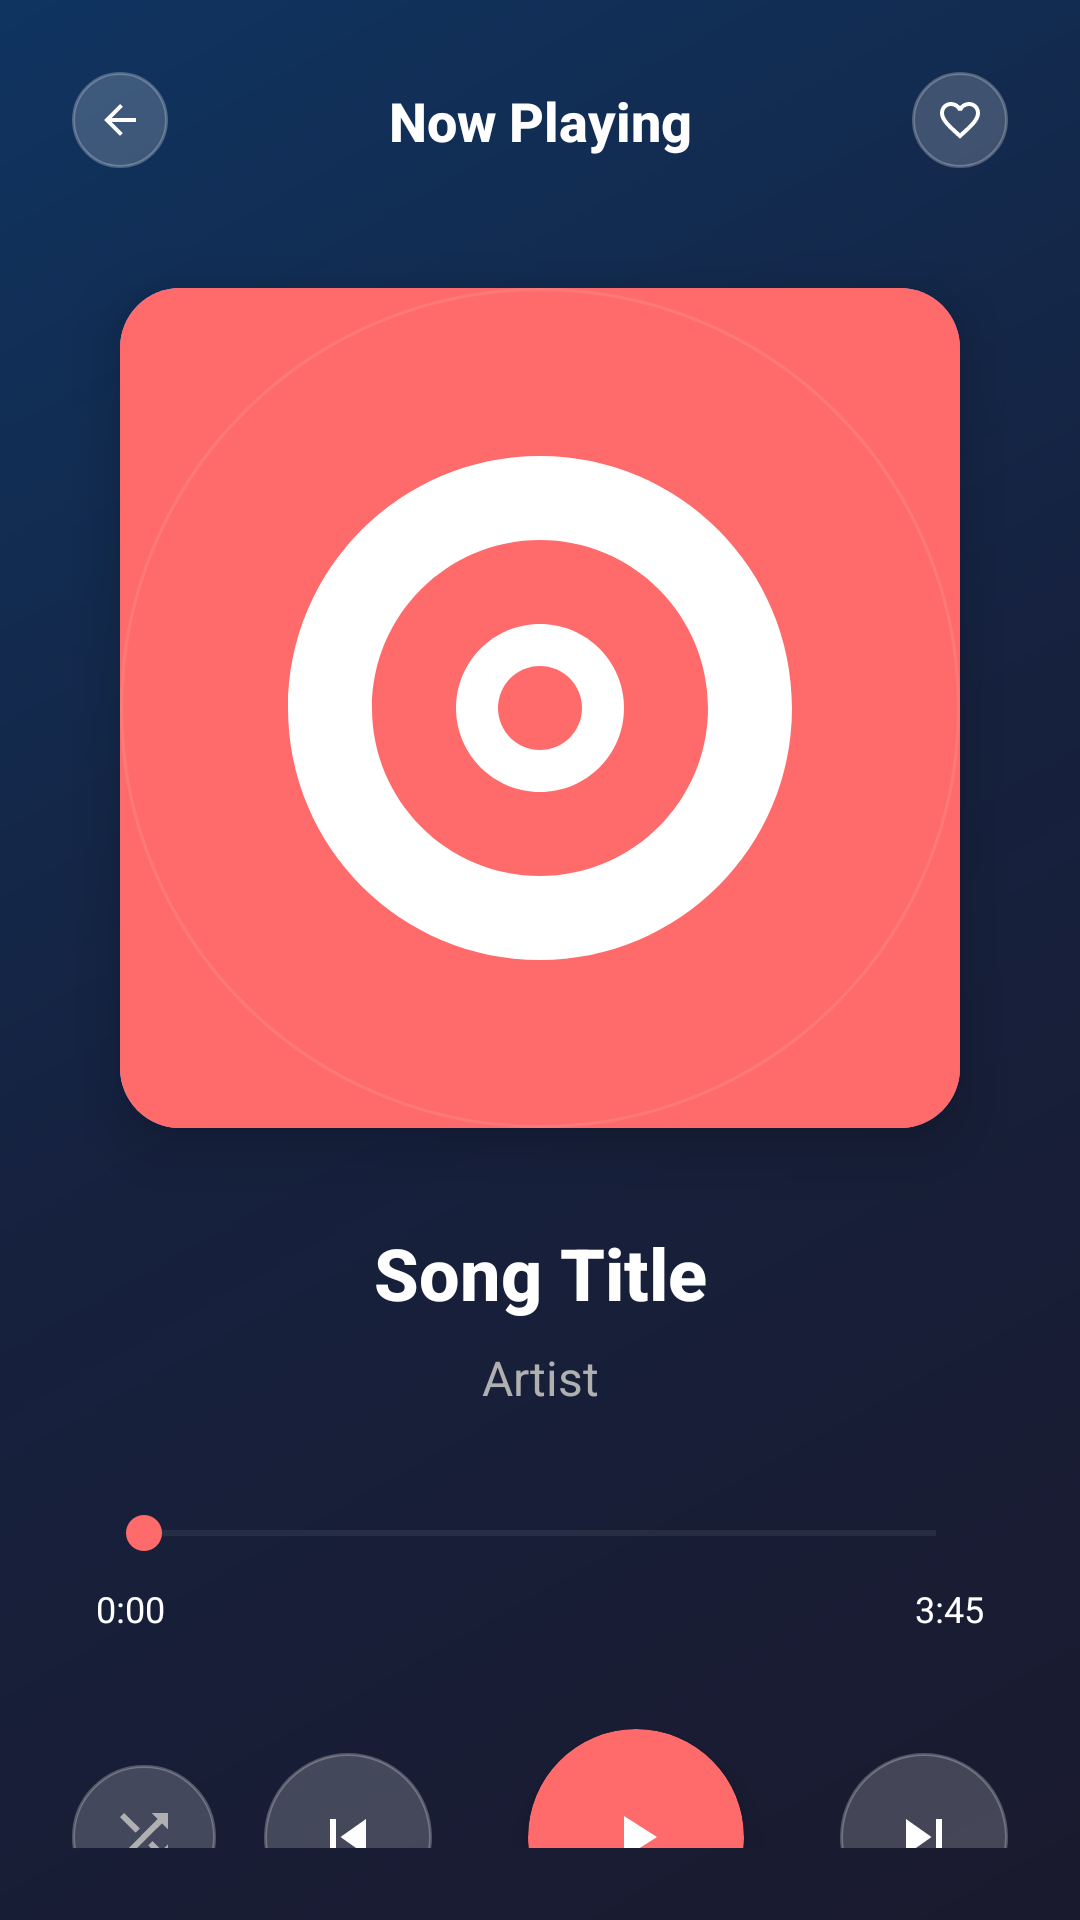

Icons on this 1080 × 1920 Android screen, each with the point to tap as [x,y]:
arrow back: [120,120]
favorite border: [960,120]
Next: [924,1800]
Previous: [348,1800]
